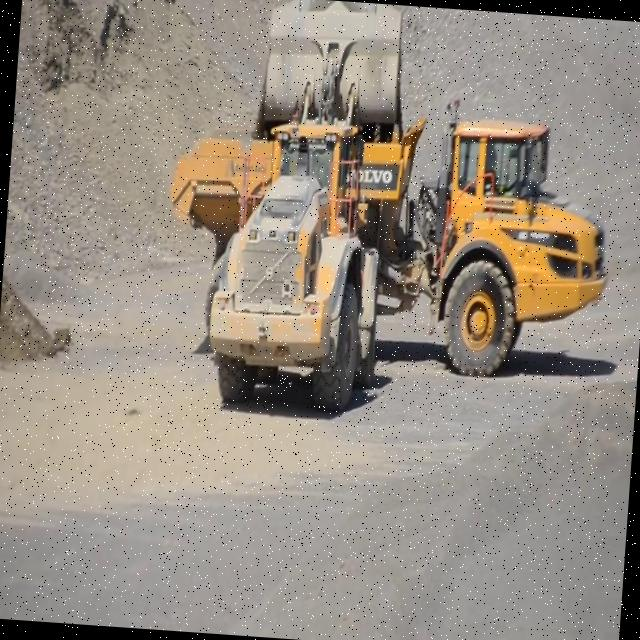Dump Truck: (157, 75, 620, 386)
Loader: (202, 0, 406, 433)
